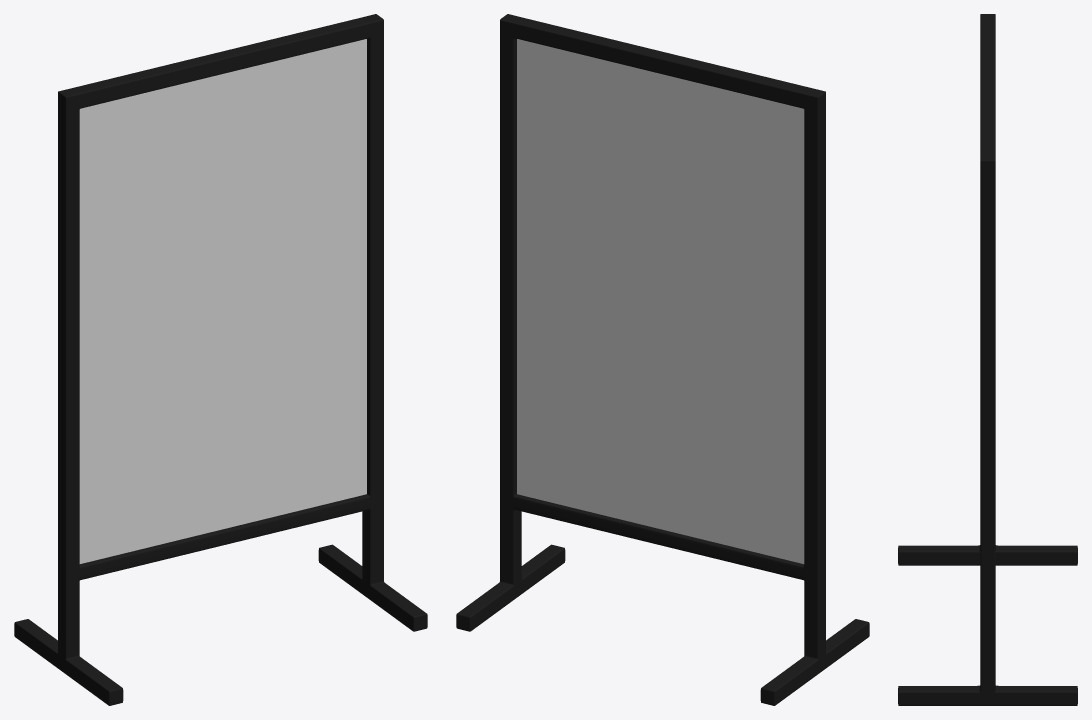
Rendered from advertising_display_stand_mockup_03.obj.
3 views of the same model, side by side, from view 1: azimuth 30°, elevation 25°; view 2: azimuth 150°, elevation 25°; view 3: azimuth 270°, elevation 25° (orthographic). The views are drawn at different scales.
Visible parts, largest first — view 1: surface, frame; view 2: surface, frame; view 3: frame.
Boxes of the visible parts, x1,y1,x2,y2 form: surface: (79, 39, 366, 563); frame: (14, 14, 427, 705); surface: (517, 39, 804, 563); frame: (456, 14, 869, 705); frame: (898, 14, 1077, 705).
Size of the model in its own units: 77.33 by 134 by 39.96.
Materials: 2 (2 with a texture image).
